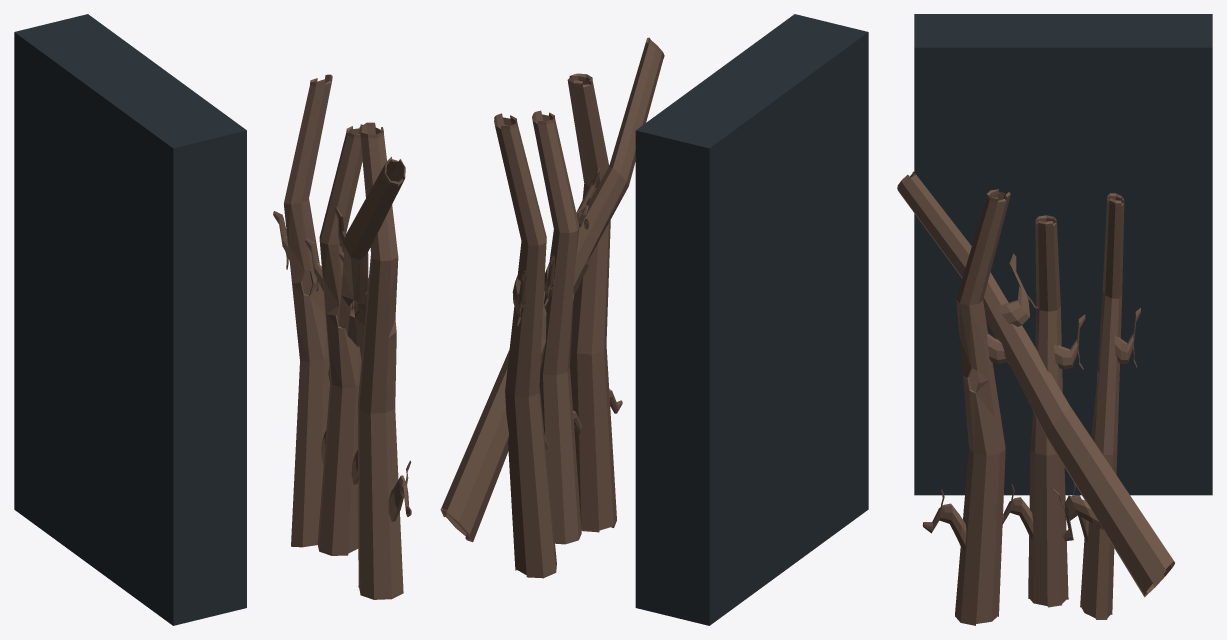
File: StartBarrier.obj
The picture shows the model from 3 angles, left to right: view 1: azimuth 30°, elevation 25°; view 2: azimuth 150°, elevation 25°; view 3: azimuth 270°, elevation 25°; orthographic projection. The views are drawn at different scales.
Parts seen in each view (by area): view 1: Cube.286, Circle.006, Circle.003, Circle.009, Circle.005; view 2: Cube.286, Circle.003, Circle.006, Circle.009, Circle.005; view 3: Cube.286, Circle.005, Circle.006, Circle.009, Circle.003.
Boxes of the visible parts, x1=… form: Cube.286: x1=14, y1=14, x2=246, y2=625; Circle.006: x1=339, y1=122, x2=411, y2=599; Circle.003: x1=273, y1=74, x2=332, y2=547; Circle.009: x1=305, y1=124, x2=362, y2=555; Circle.005: x1=328, y1=157, x2=405, y2=382; Cube.286: x1=635, y1=14, x2=868, y2=625; Circle.003: x1=494, y1=113, x2=556, y2=578; Circle.006: x1=567, y1=73, x2=622, y2=532; Circle.009: x1=532, y1=110, x2=581, y2=544; Circle.005: x1=440, y1=37, x2=664, y2=542; Cube.286: x1=914, y1=14, x2=1212, y2=495; Circle.005: x1=897, y1=171, x2=1174, y2=597; Circle.006: x1=922, y1=189, x2=1010, y2=625; Circle.009: x1=1002, y1=215, x2=1085, y2=607; Circle.003: x1=1065, y1=193, x2=1140, y2=619.
Bounding box in the file's own units: 8.04 × 13.62 × 7.89.
1 material, 1 textured.
